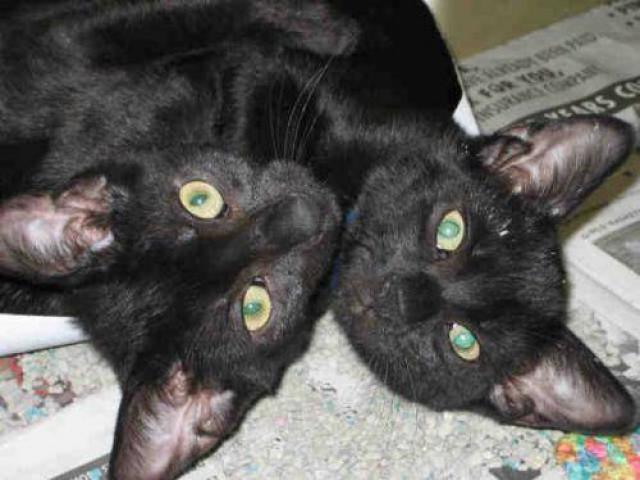cat: (8, 142, 337, 475), (334, 100, 637, 444)
